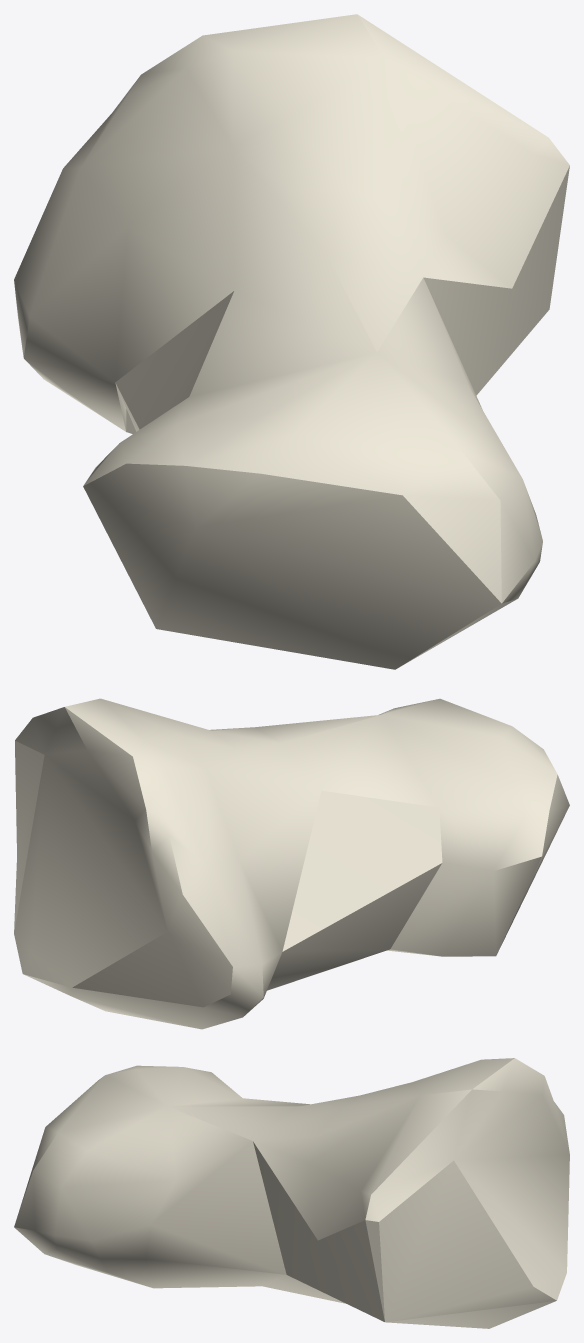
File: fma32652_fj3189.glb
The picture shows the model from 3 angles, top to bottom: view 1: azimuth 30°, elevation 25°; view 2: azimuth 150°, elevation 25°; view 3: azimuth 270°, elevation 25°; orthographic projection. The views are drawn at different scales.
Parts seen in each view (by area): view 1: FMA32652_FJ3189; view 2: FMA32652_FJ3189; view 3: FMA32652_FJ3189.
Part boxes in pixels (x1,y1,x2,y2): FMA32652_FJ3189: (14,14,569,669); FMA32652_FJ3189: (14,698,569,1029); FMA32652_FJ3189: (14,1058,569,1328).
Size of the model in its own units: 0.011 by 0.00724 by 0.0131.
